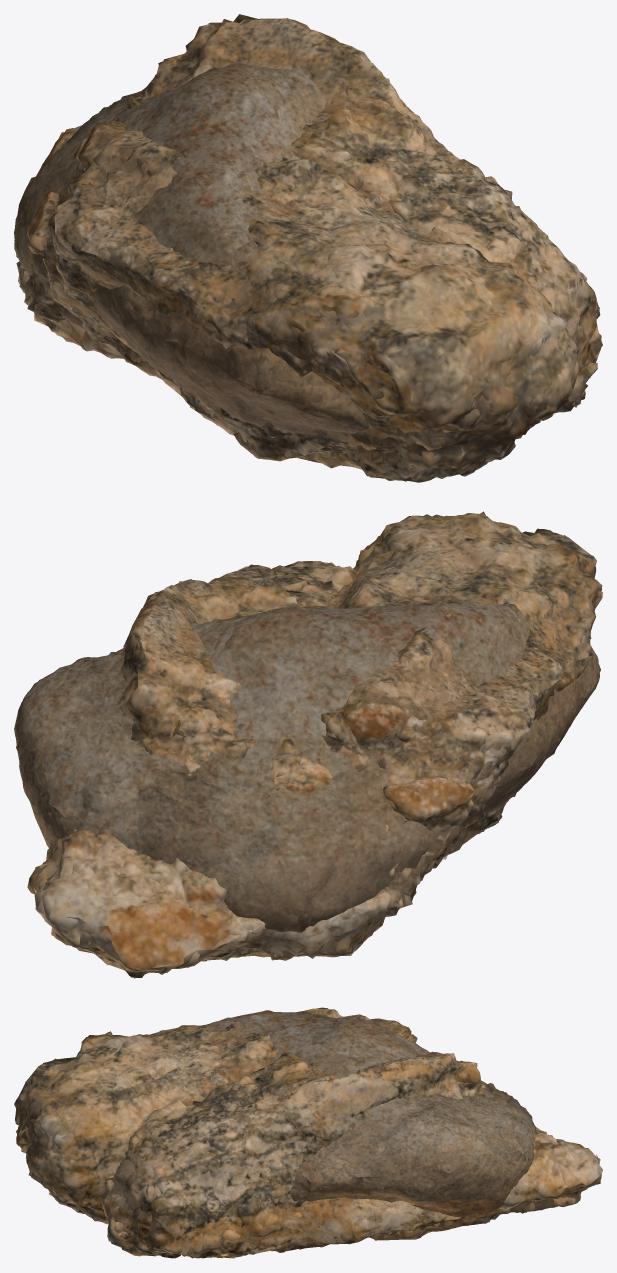
The model's file is desert-boulders.glb.
The picture shows the model from 3 angles, top to bottom: view 1: azimuth 30°, elevation 25°; view 2: azimuth 150°, elevation 25°; view 3: azimuth 270°, elevation 25°; orthographic projection. The views are drawn at different scales.
Visible parts, largest first — view 1: LOD0_desert_boulder_1, LOD1_desert_boulder_1, LOD0_desert_boulder_0, LOD1_desert_boulder_0; view 2: LOD0_desert_boulder_1, LOD0_desert_boulder_0, LOD1_desert_boulder_1, LOD1_desert_boulder_0; view 3: LOD0_desert_boulder_1, LOD1_desert_boulder_1, LOD0_desert_boulder_0, LOD1_desert_boulder_0.
Boxes of the visible parts, x1,y1,x2,y2 form: LOD0_desert_boulder_1: [16, 19, 602, 482]; LOD1_desert_boulder_1: [20, 14, 600, 482]; LOD0_desert_boulder_0: [14, 63, 368, 433]; LOD1_desert_boulder_0: [14, 63, 368, 434]; LOD0_desert_boulder_1: [27, 511, 602, 977]; LOD0_desert_boulder_0: [14, 599, 600, 932]; LOD1_desert_boulder_1: [31, 513, 601, 978]; LOD1_desert_boulder_0: [14, 601, 599, 931]; LOD0_desert_boulder_1: [14, 1007, 602, 1258]; LOD1_desert_boulder_1: [15, 1008, 599, 1258]; LOD0_desert_boulder_0: [201, 1010, 536, 1220]; LOD1_desert_boulder_0: [204, 1011, 535, 1219].
Size of the model in its own units: 4.9 by 3.02 by 8.42.
Materials: 1 (1 with a texture image).
